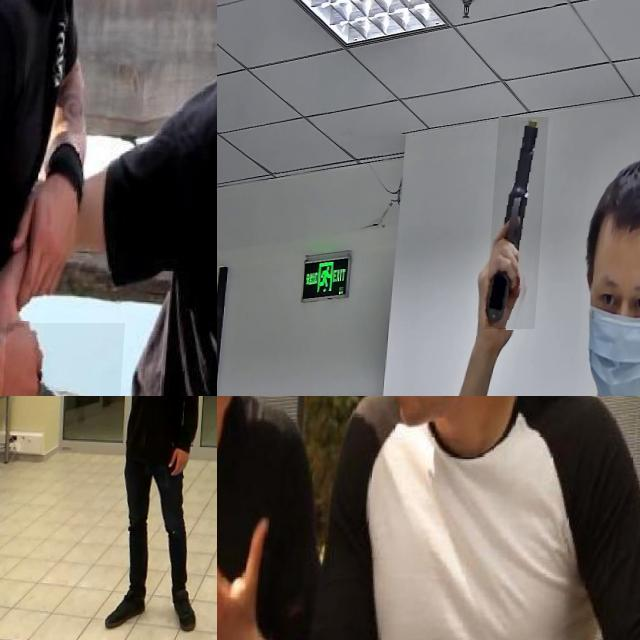-: (6, 322, 131, 396), (217, 480, 261, 639)
gun-knife-thesis - v11 Yolov5 augmented: (491, 118, 552, 330), (25, 396, 63, 411)
